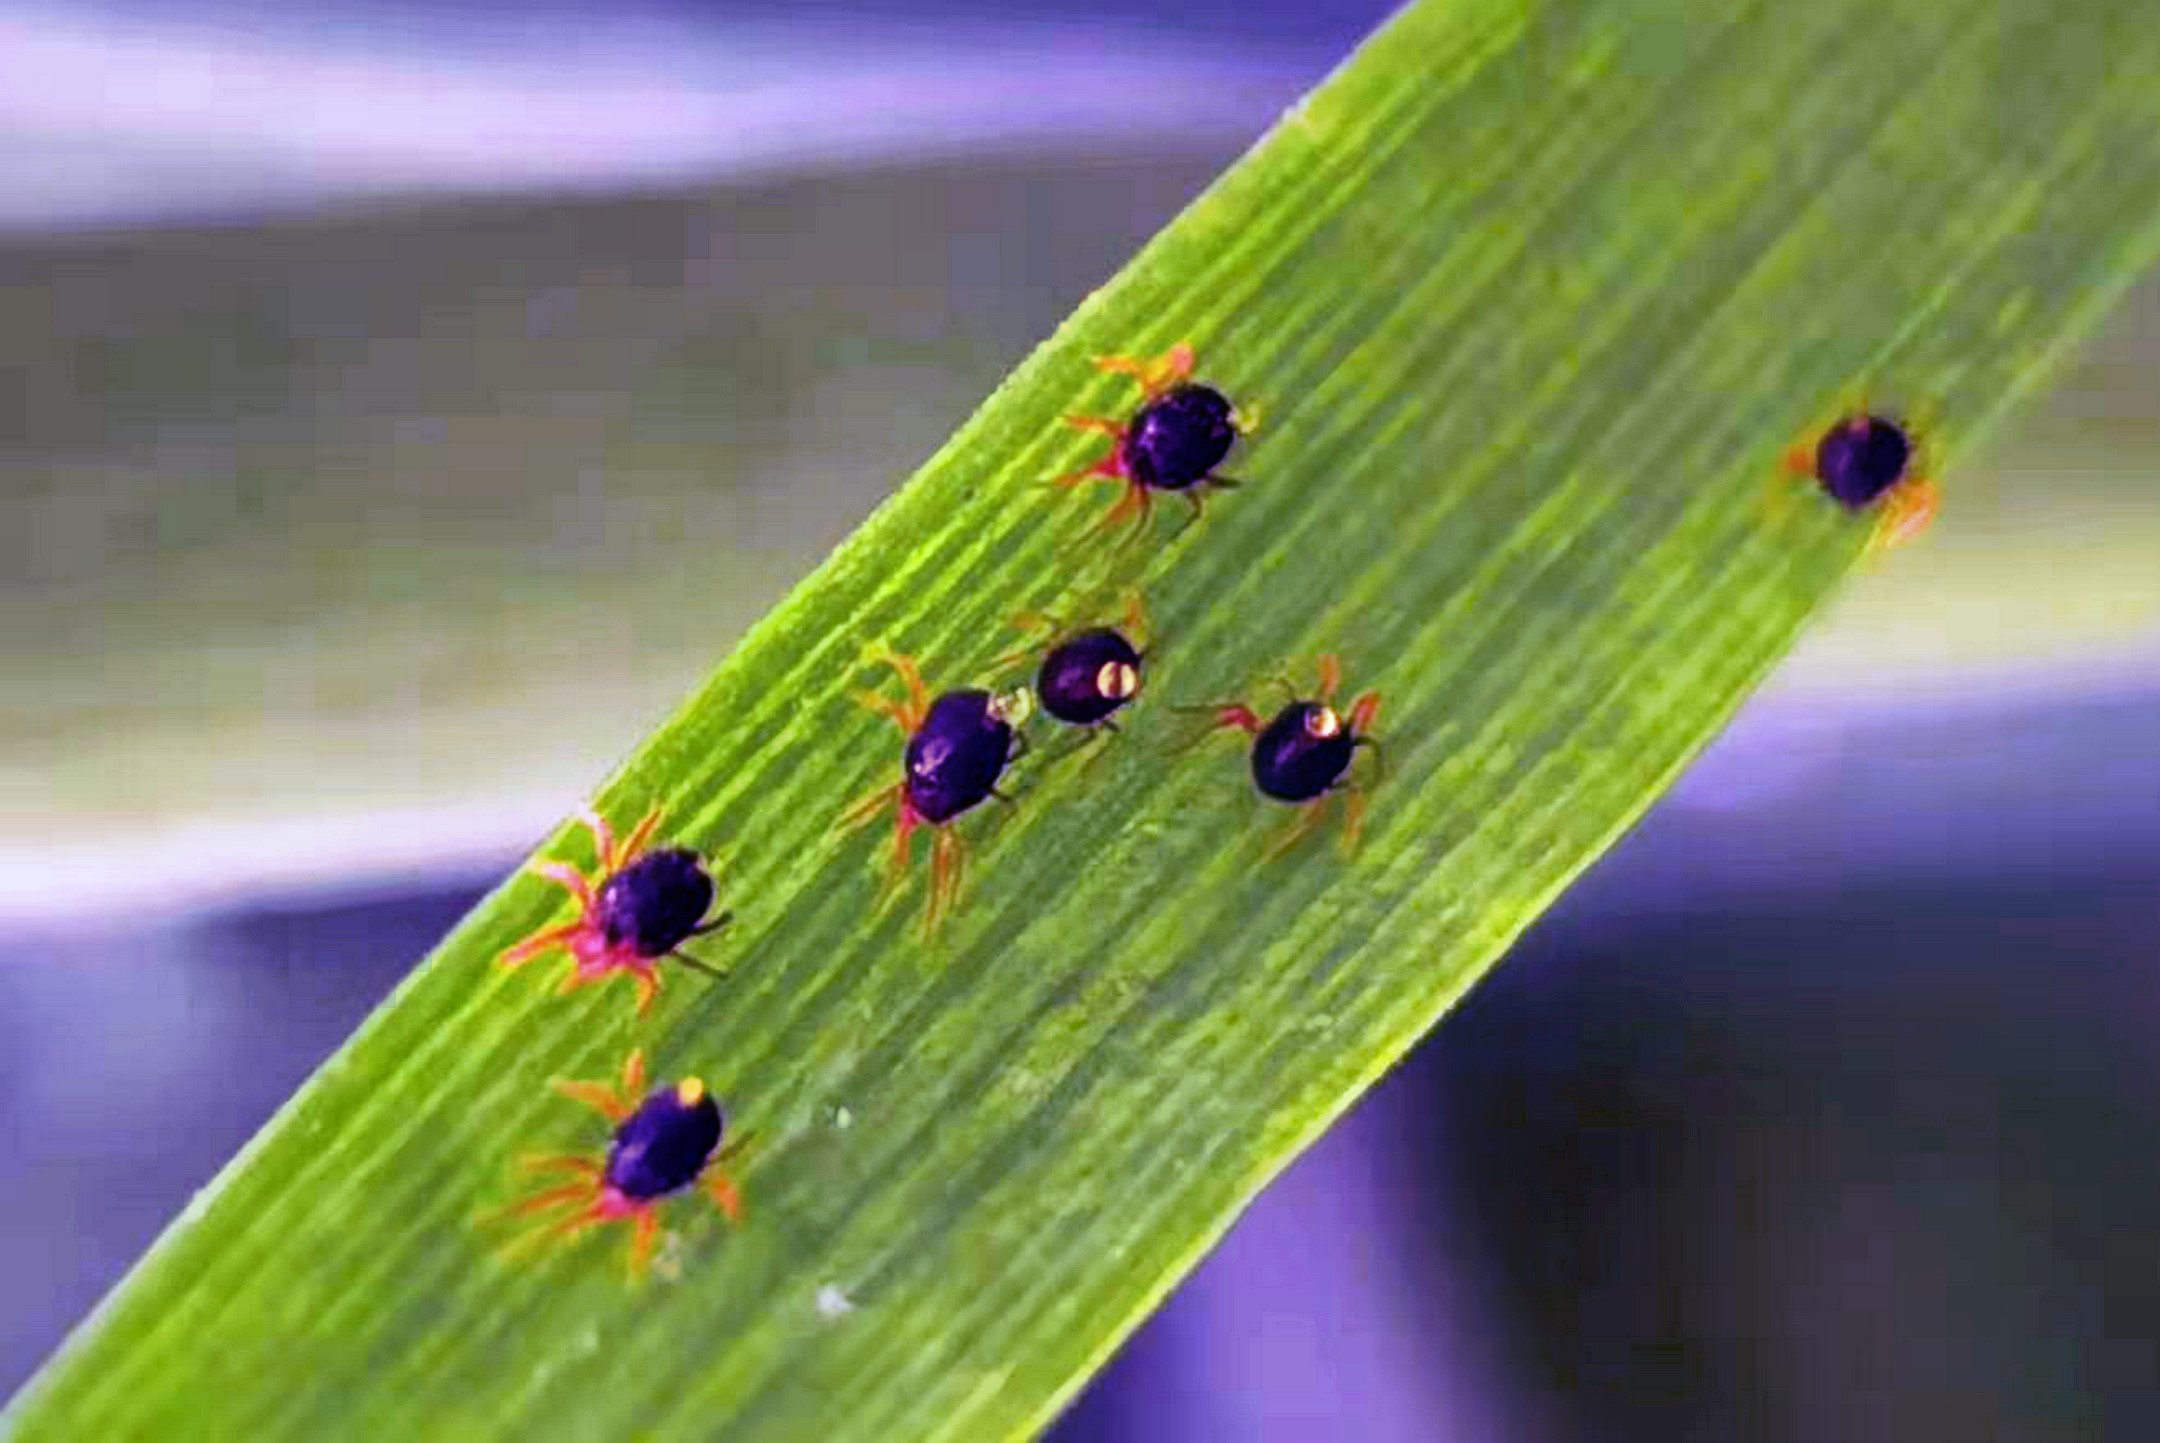Wheat Red Spider: (470, 779, 776, 1293)
